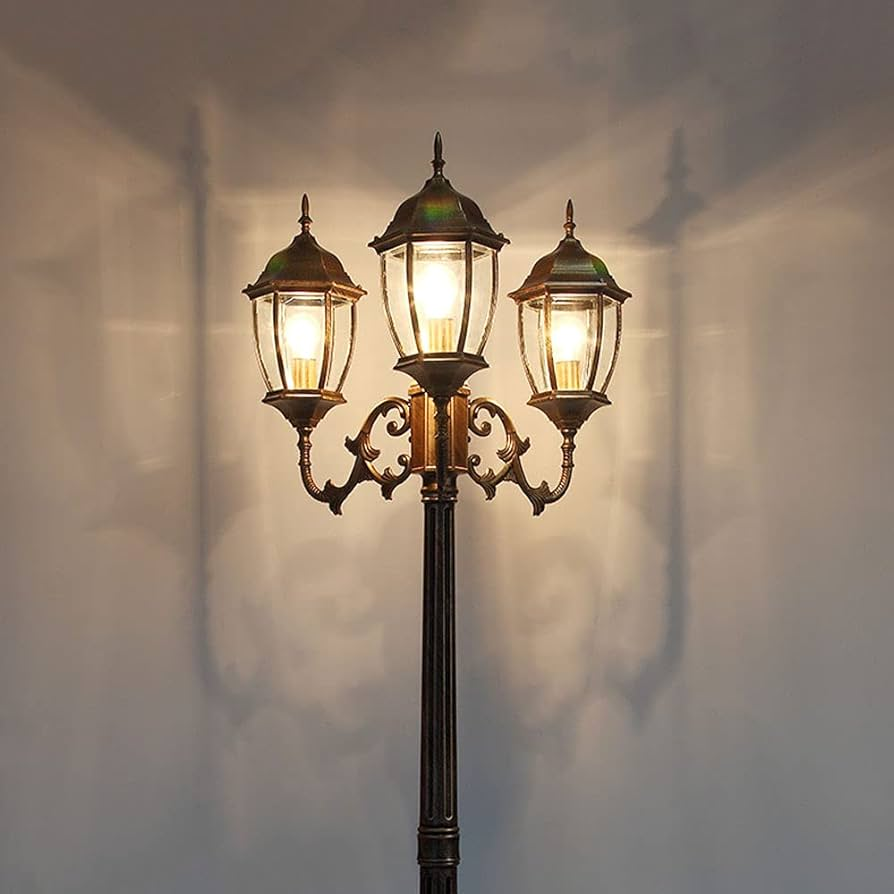Lamp: (235, 105, 643, 894)
